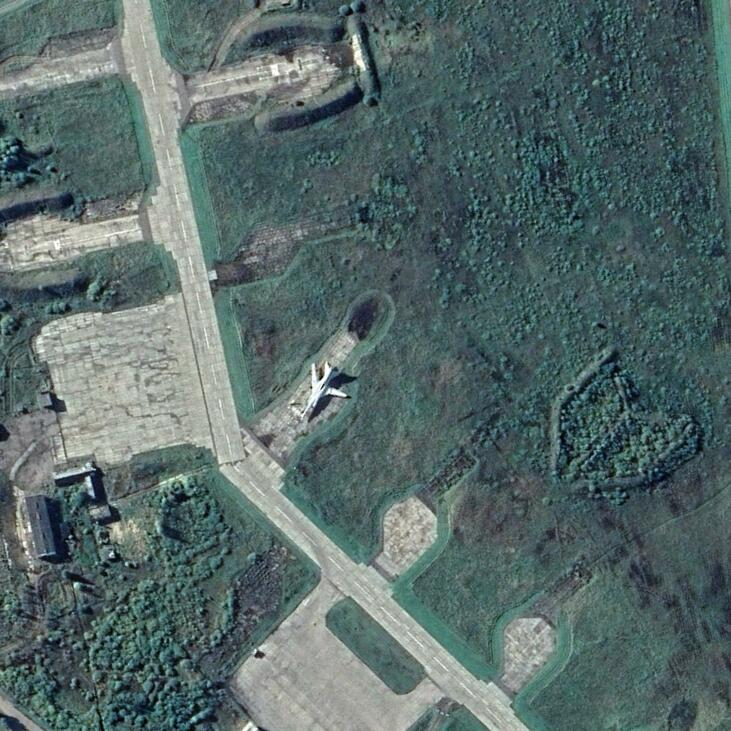A12: (297, 360, 348, 420)
